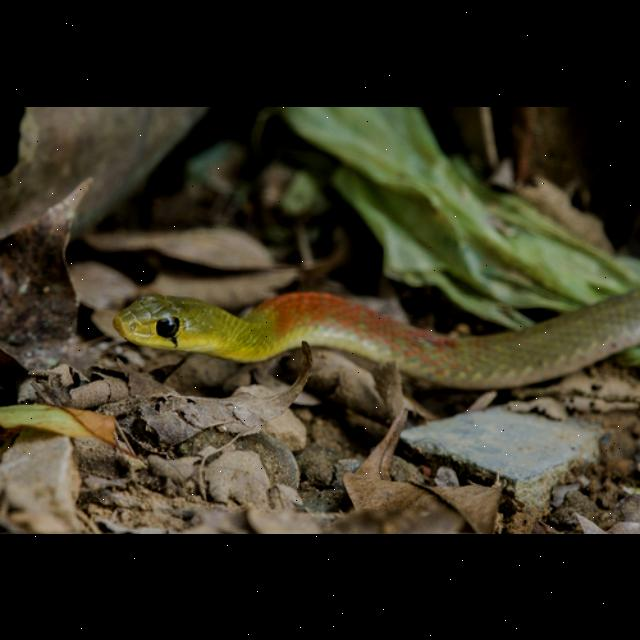snake: (108, 269, 640, 396)
